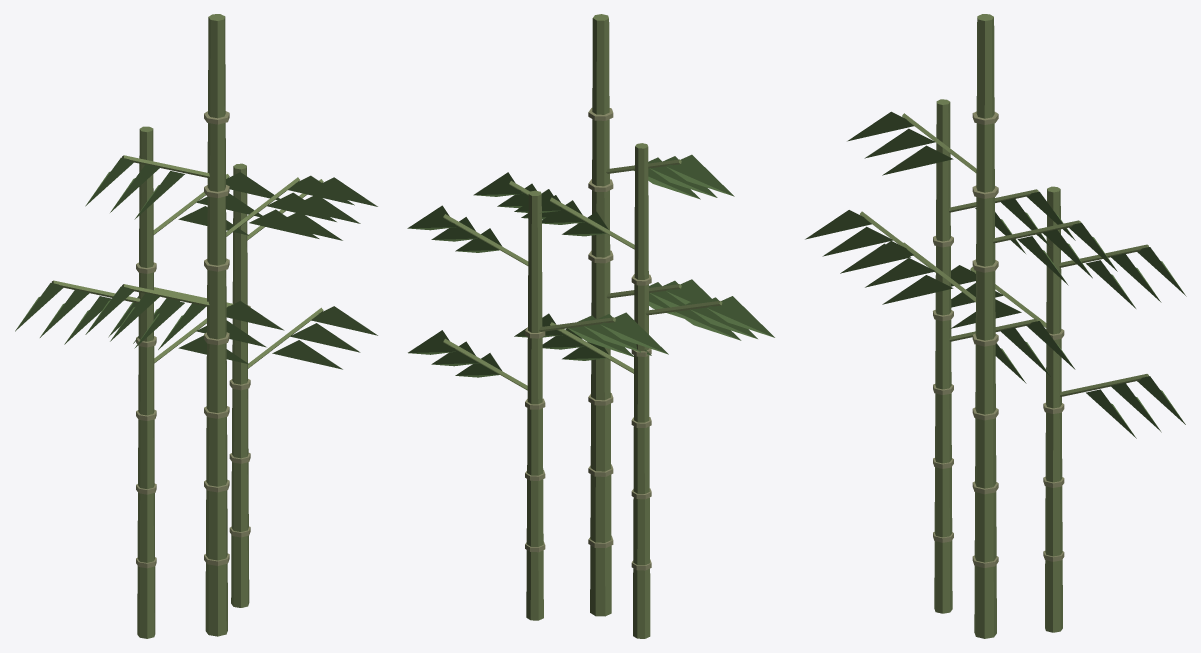
File: bamboo.glb
The picture shows the model from 3 angles, left to right: view 1: azimuth 30°, elevation 25°; view 2: azimuth 150°, elevation 25°; view 3: azimuth 330°, elevation 25°; orthographic projection. The views are drawn at different scales.
Parts seen in each view (by area): view 1: bamboo_Bamboo_stalk, bamboo_Bamboo_leaf, bamboo_Bamboo_node; view 2: bamboo_Bamboo_stalk, bamboo_Bamboo_leaf, bamboo_Bamboo_node; view 3: bamboo_Bamboo_stalk, bamboo_Bamboo_leaf, bamboo_Bamboo_node.
Boxes of the visible parts, x1,y1,x2,y2 form: bamboo_Bamboo_stalk: [51, 14, 323, 638]; bamboo_Bamboo_leaf: [15, 157, 377, 369]; bamboo_Bamboo_node: [136, 111, 250, 568]; bamboo_Bamboo_stalk: [443, 14, 722, 638]; bamboo_Bamboo_leaf: [407, 154, 774, 377]; bamboo_Bamboo_node: [525, 108, 651, 570]; bamboo_Bamboo_stalk: [860, 14, 1148, 638]; bamboo_Bamboo_leaf: [805, 111, 1186, 438]; bamboo_Bamboo_node: [933, 111, 1064, 567].
Size of the model in its own units: 2.12 by 3.34 by 0.416.
